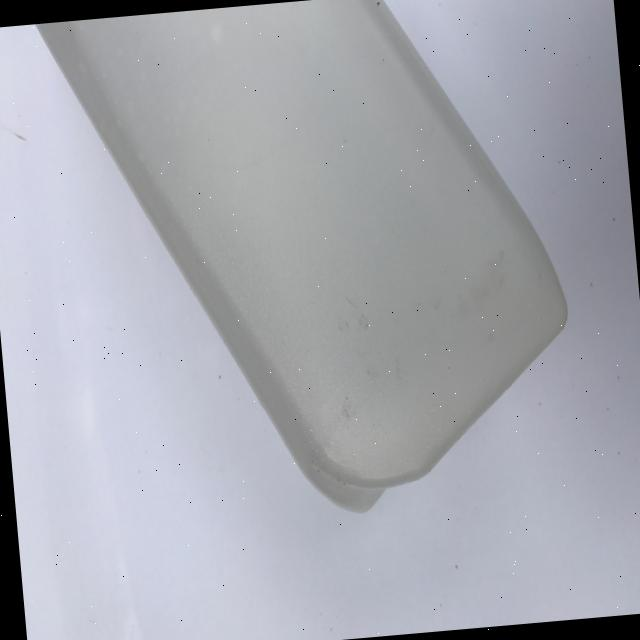plastic: (33, 0, 584, 538)
